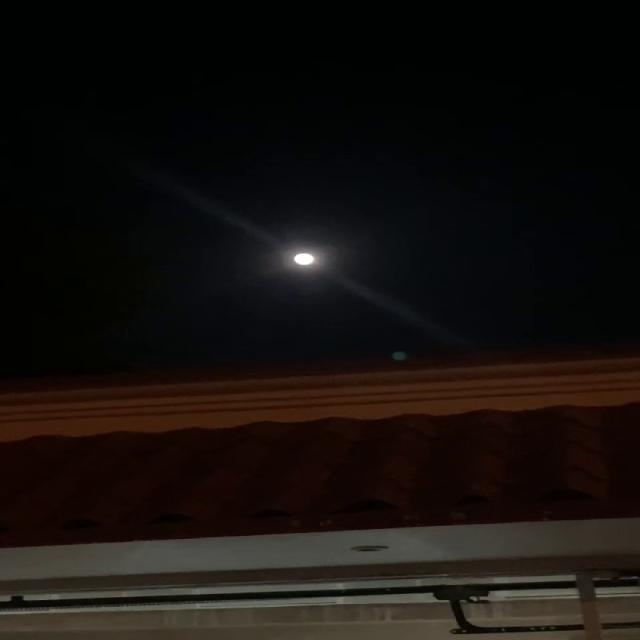moon: (284, 253, 314, 268)
